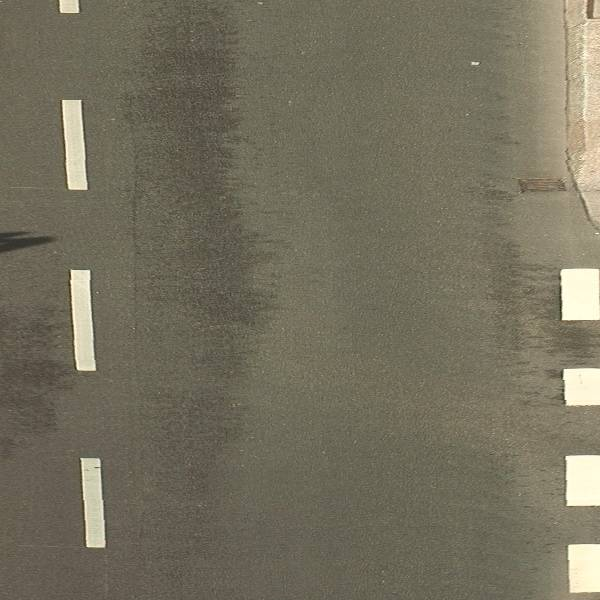road_damage: (143, 1, 287, 335), (483, 218, 528, 361)
